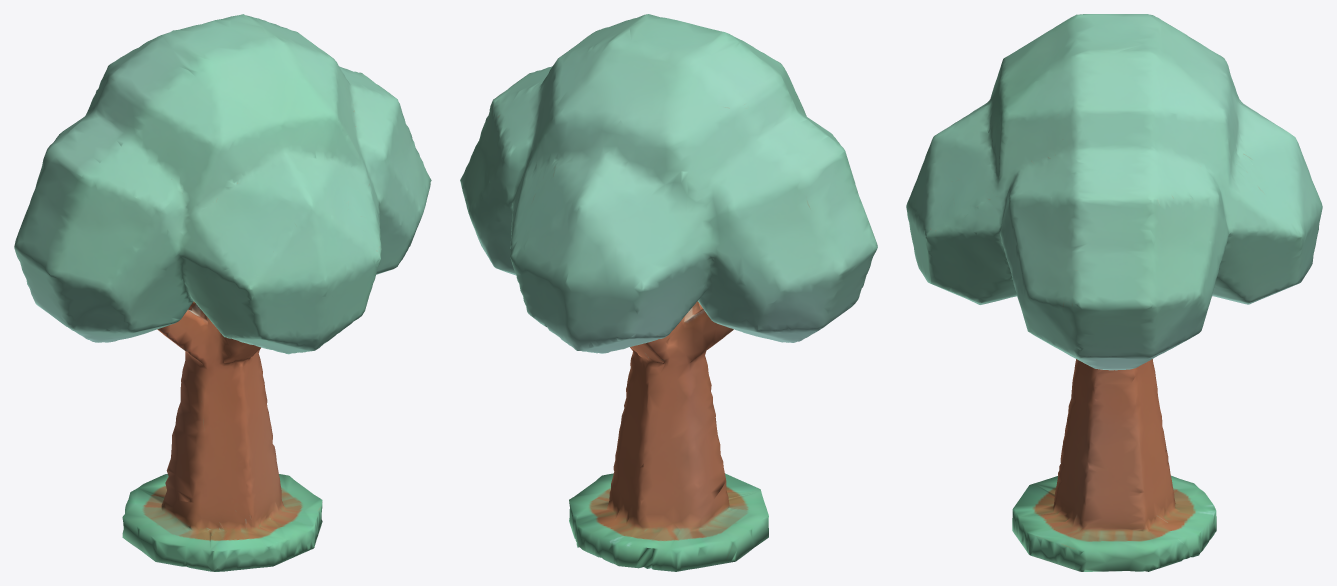
The model's file is tree_stylised.glb.
The picture shows the model from 3 angles, left to right: view 1: azimuth 30°, elevation 25°; view 2: azimuth 150°, elevation 25°; view 3: azimuth 270°, elevation 25°; orthographic projection.
Parts seen in each view (by area): view 1: model; view 2: model; view 3: model.
Part boxes in pixels (bbox=[...]): model: bbox=[14, 14, 431, 571]; model: bbox=[460, 14, 877, 571]; model: bbox=[906, 14, 1322, 571].
Bounding box in the file's own units: 1.54 × 1.9 × 1.44.
1 material, 1 textured.
